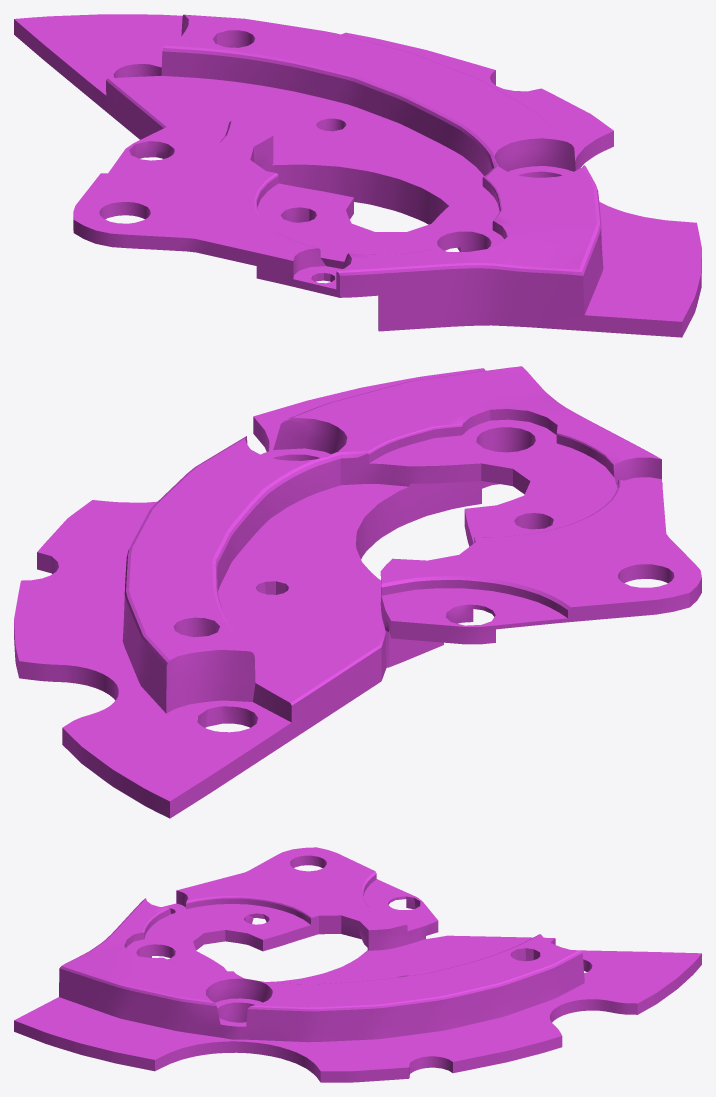
Rendered from TrainWheelBridge (1).fbx.
3 views of the same model, one above another, from view 1: azimuth 30°, elevation 25°; view 2: azimuth 150°, elevation 25°; view 3: azimuth 270°, elevation 25° (orthographic). The views are drawn at different scales.
Parts seen in each view (by area): view 1: Train Wheel Bridge; view 2: Train Wheel Bridge; view 3: Train Wheel Bridge.
Part boxes in pixels (box(x1,y1,x2,y2)): Train Wheel Bridge: box(14, 14, 701, 337); Train Wheel Bridge: box(14, 366, 701, 818); Train Wheel Bridge: box(14, 847, 701, 1082).
Bounding box in the file's own units: 31.73 × 3.43 × 48.3.
